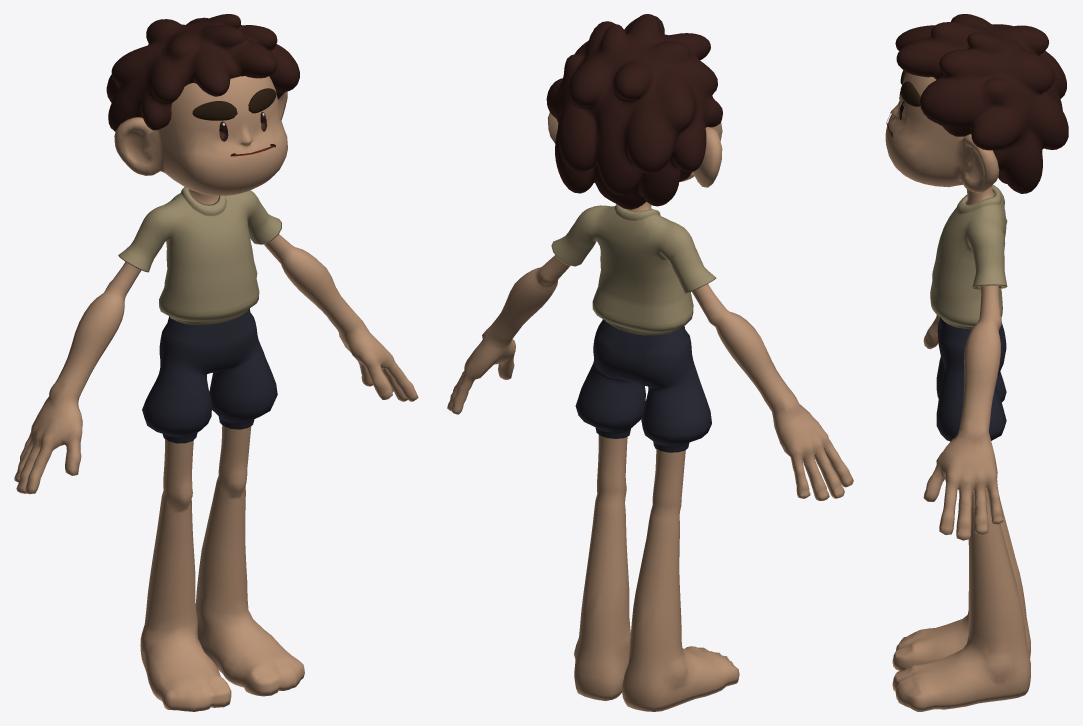
File: KrstoslavModel_Alpha.fbx
The picture shows the model from 3 angles, left to right: view 1: azimuth 30°, elevation 25°; view 2: azimuth 150°, elevation 25°; view 3: azimuth 270°, elevation 25°; orthographic projection.
Parts seen in each view (by area): view 1: Body_low, Shirt_Low, Hair_Low, Pants_Low, Eyebrows_Low; view 2: Body_low, Hair_Low, Shirt_Low, Pants_Low; view 3: Body_low, Hair_Low, Shirt_Low, Pants_Low, Eyebrows_Low.
Part boxes in pixels (left/top/right/bottom): Body_low: left=14, top=76, right=418, bottom=711; Shirt_Low: left=118, top=186, right=281, bottom=324; Hair_Low: left=106, top=14, right=299, bottom=131; Pants_Low: left=142, top=308, right=277, bottom=443; Eyebrows_Low: left=192, top=88, right=276, bottom=120; Body_low: left=447, top=112, right=853, bottom=711; Hair_Low: left=546, top=14, right=722, bottom=209; Shirt_Low: left=551, top=204, right=716, bottom=335; Pants_Low: left=575, top=319, right=711, bottom=452; Body_low: left=885, top=72, right=1030, bottom=711; Hair_Low: left=895, top=14, right=1068, bottom=193; Shirt_Low: left=930, top=185, right=1007, bottom=329; Pants_Low: left=936, top=317, right=1006, bottom=441; Eyebrows_Low: left=900, top=70, right=920, bottom=106.
Bounding box in the file's own units: 117 × 188 × 47.98.
7 materials, 2 textured.
